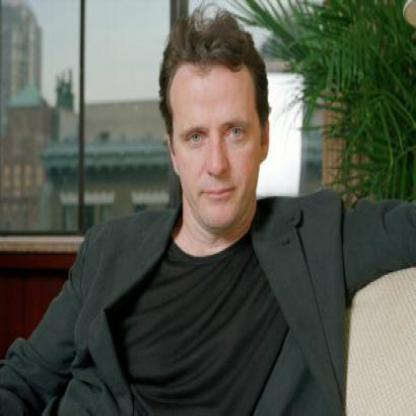face: (171, 32, 263, 232)
